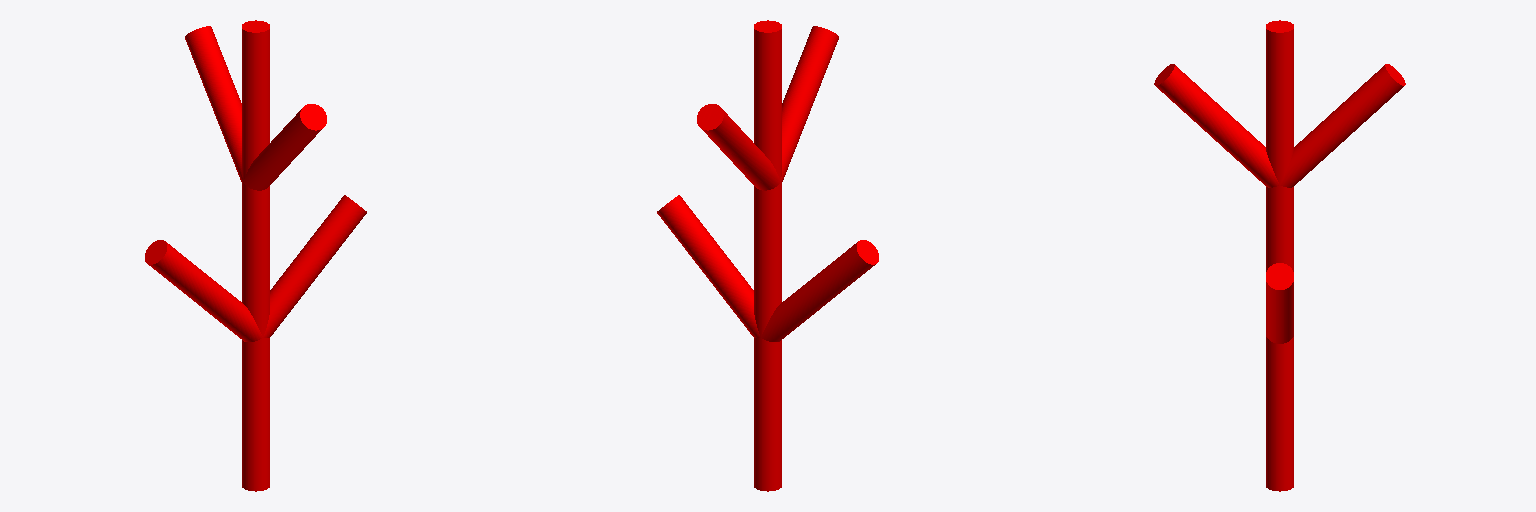
robot.urdf — tree.urdf:
<?xml version="1.0" ?>
<robot name="tree.urdf">
  <link name="baseLink">
    <inertial>
      <origin rpy="0 0 0" xyz="0 0 0"/>
       <mass value=".1"/>
       <inertia ixx="1" ixy="0" ixz="0" iyy="1" iyz="0" izz="1"/>
    </inertial>
    <visual>
      <origin rpy="0 0 0" xyz="0 0 0"/>
      <geometry>
        <mesh filename="13.stl" scale="1 1 1" />
      </geometry>
      <material name="red">
        <color rgba="1 0 0 1"/>
      </material>
    </visual>
    <collision>
      <origin rpy="0 0 0" xyz="0 0 0"/>
      <geometry>
        <mesh filename="13_convex.obj" scale="1 1 1" />
      </geometry>
    </collision>
  </link>
</robot>

--- Facts derived from the render (not from the file) ---
The picture shows the robot from 3 angles, left to right: view 1: azimuth 30°, elevation 25°; view 2: azimuth 150°, elevation 25°; view 3: azimuth 270°, elevation 25°; orthographic projection.
Robot: tree.urdf — 1 links, 0 joints (none); root link baseLink; default pose: every joint at zero.
Visible links, largest first — view 1: baseLink; view 2: baseLink; view 3: baseLink.
Boxes of the visible links, bbox=[...] form: baseLink: bbox=[145, 20, 366, 491]; baseLink: bbox=[657, 20, 878, 491]; baseLink: bbox=[1154, 20, 1405, 491].
Bounding box of the posed robot: 0.2711 × 0.2711 × 0.5457 m (x, y, z).
1 mesh visuals loaded from 1 distinct referenced files (1 binary STL).